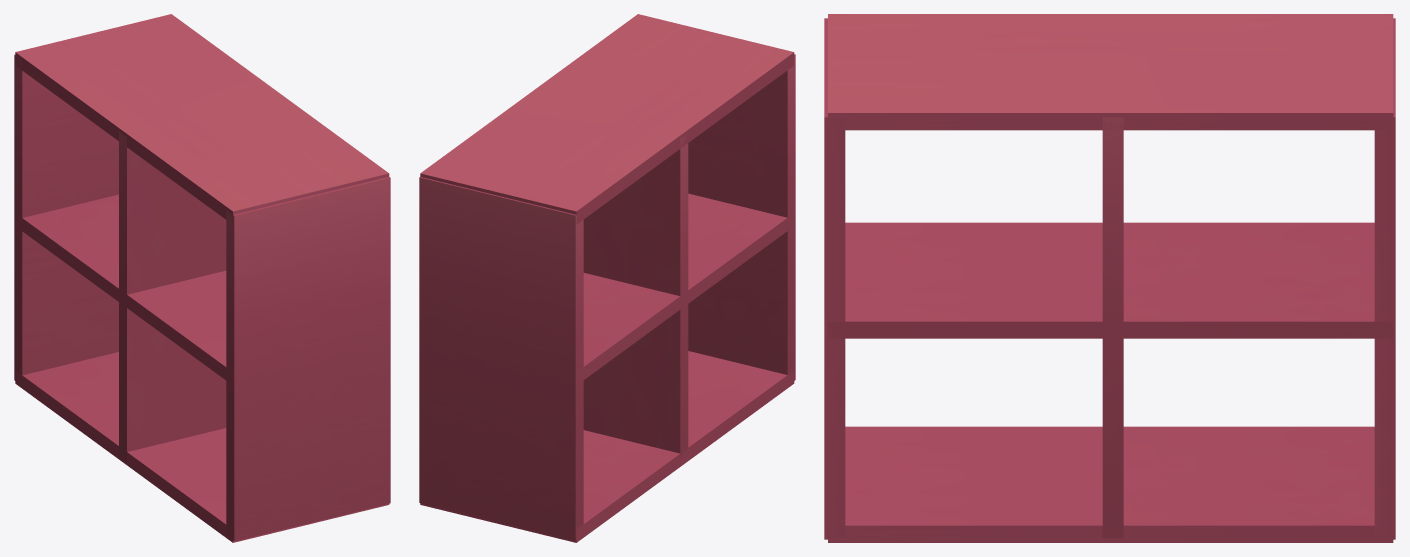
File: Cabnit4.glb
3 views of the same model, side by side, from view 1: azimuth 30°, elevation 25°; view 2: azimuth 150°, elevation 25°; view 3: azimuth 270°, elevation 25° (orthographic). The views are drawn at different scales.
Parts seen in each view (by area): view 1: BoxCabnit5; view 2: BoxCabnit5; view 3: BoxCabnit5.
Boxes of the visible parts, box(x1,y1,x2,y2) form: BoxCabnit5: box(14, 14, 390, 542); BoxCabnit5: box(419, 14, 795, 542); BoxCabnit5: box(824, 14, 1395, 542).
Bounding box in the file's own units: 0.3306 × 0.67 × 0.8064.
1 material, 1 textured.
